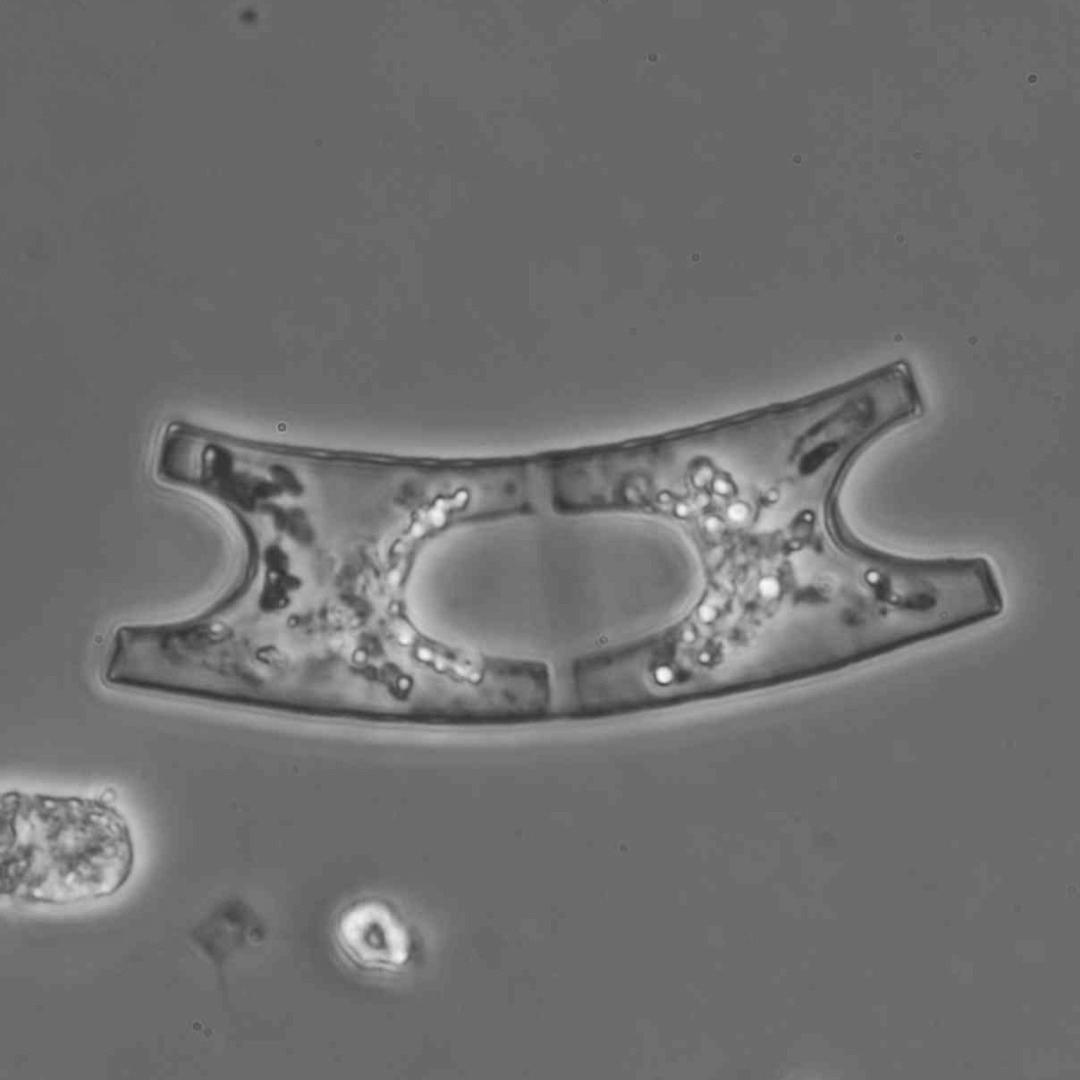eucampia_zodiacus: (103, 361, 1005, 732)
